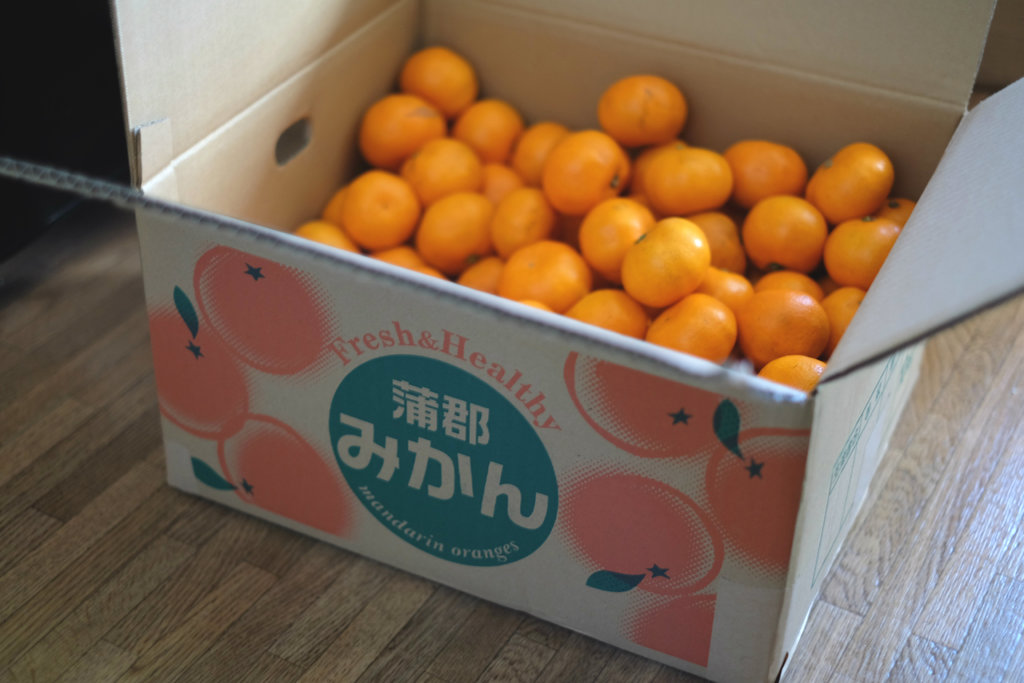Ripe: (561, 454, 716, 597), (557, 350, 730, 459), (193, 249, 333, 380), (220, 410, 360, 532), (134, 304, 240, 439), (711, 427, 805, 572), (794, 134, 892, 234), (353, 84, 439, 171), (624, 225, 711, 308), (746, 199, 836, 277), (740, 293, 821, 374), (338, 161, 426, 232), (644, 293, 732, 364), (634, 147, 732, 209), (393, 47, 475, 120), (506, 240, 586, 313), (543, 134, 616, 214), (413, 189, 486, 264), (724, 138, 810, 201), (605, 79, 680, 144), (401, 139, 484, 197), (589, 197, 652, 269), (486, 183, 554, 249), (573, 289, 649, 347), (456, 100, 514, 170), (838, 218, 896, 284), (523, 126, 577, 175), (822, 288, 860, 348), (299, 214, 362, 249), (764, 352, 815, 395), (483, 159, 523, 205), (460, 250, 502, 293), (364, 249, 425, 272), (888, 193, 920, 226)
